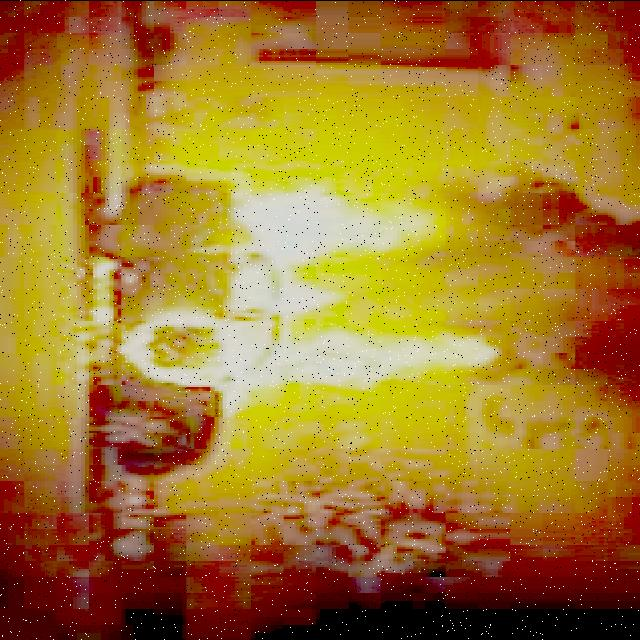api: (107, 177, 504, 415)
